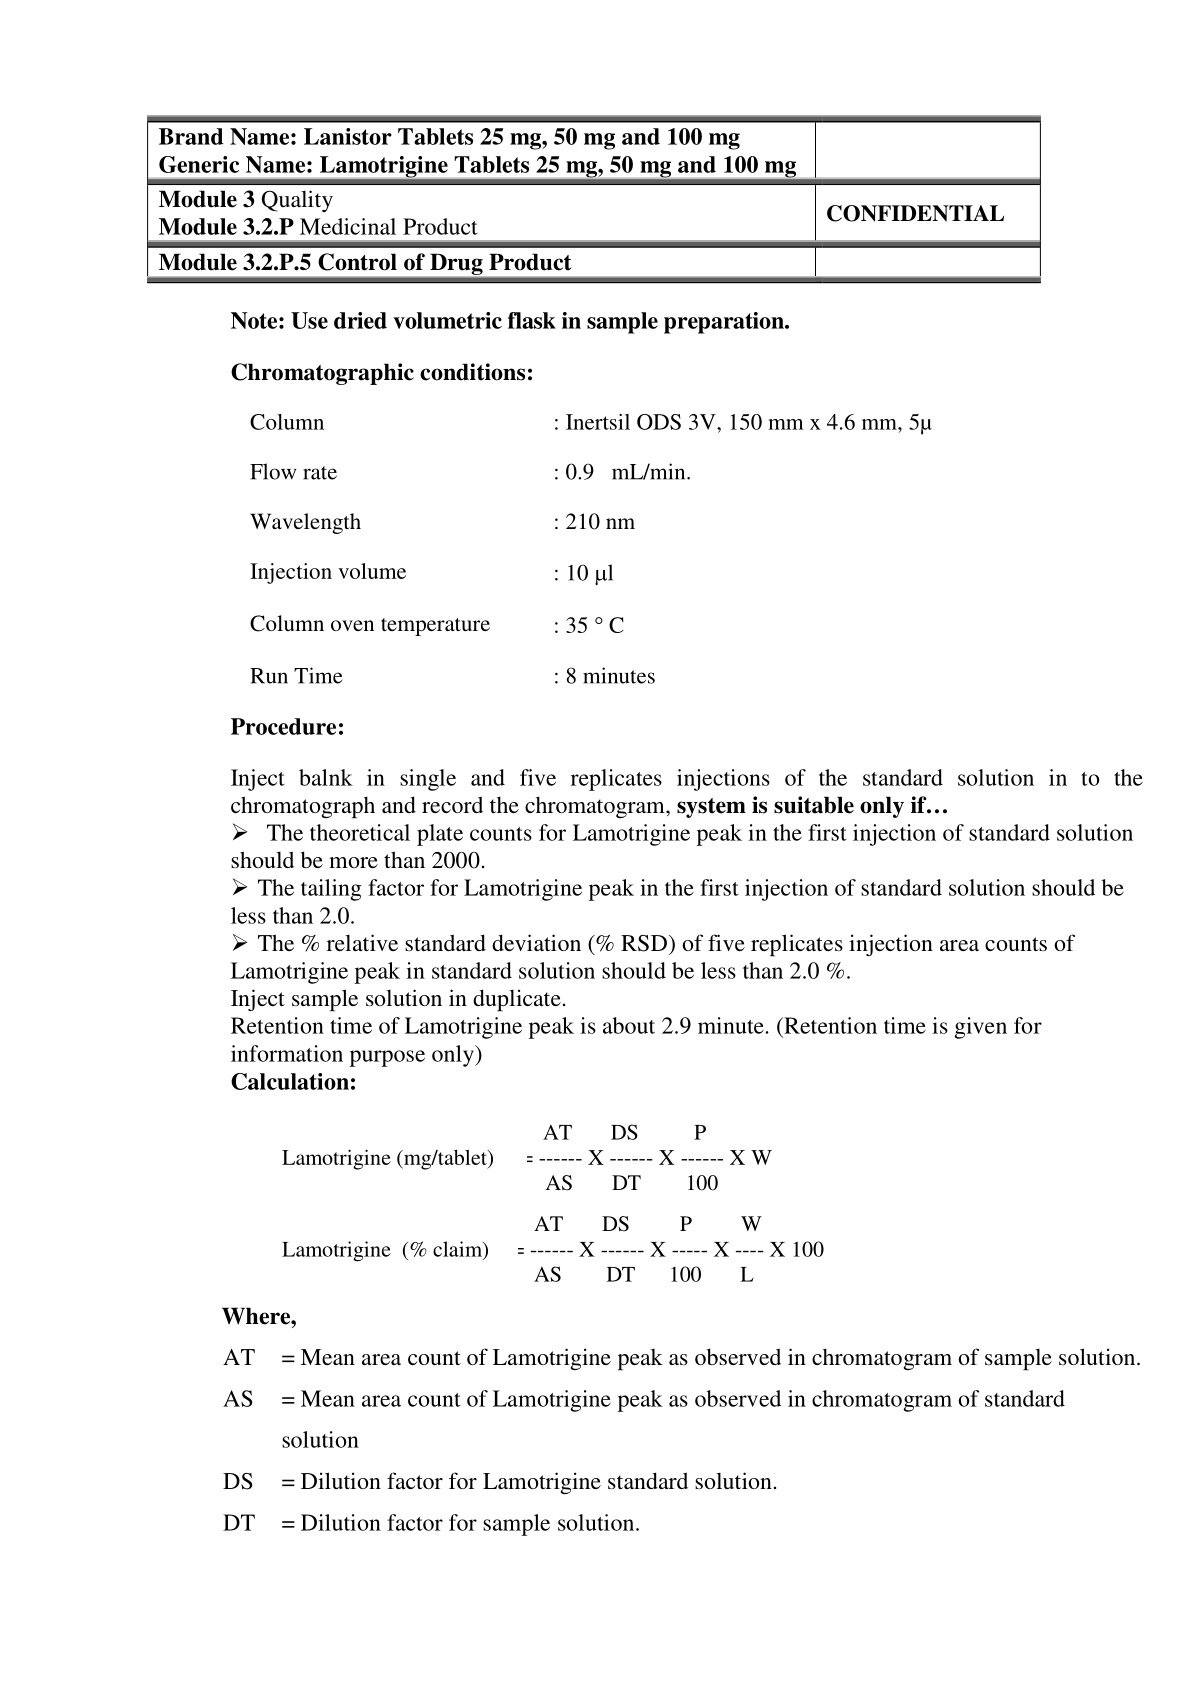full_lined: (146, 115, 1041, 283)
nolines: (241, 403, 936, 693)
